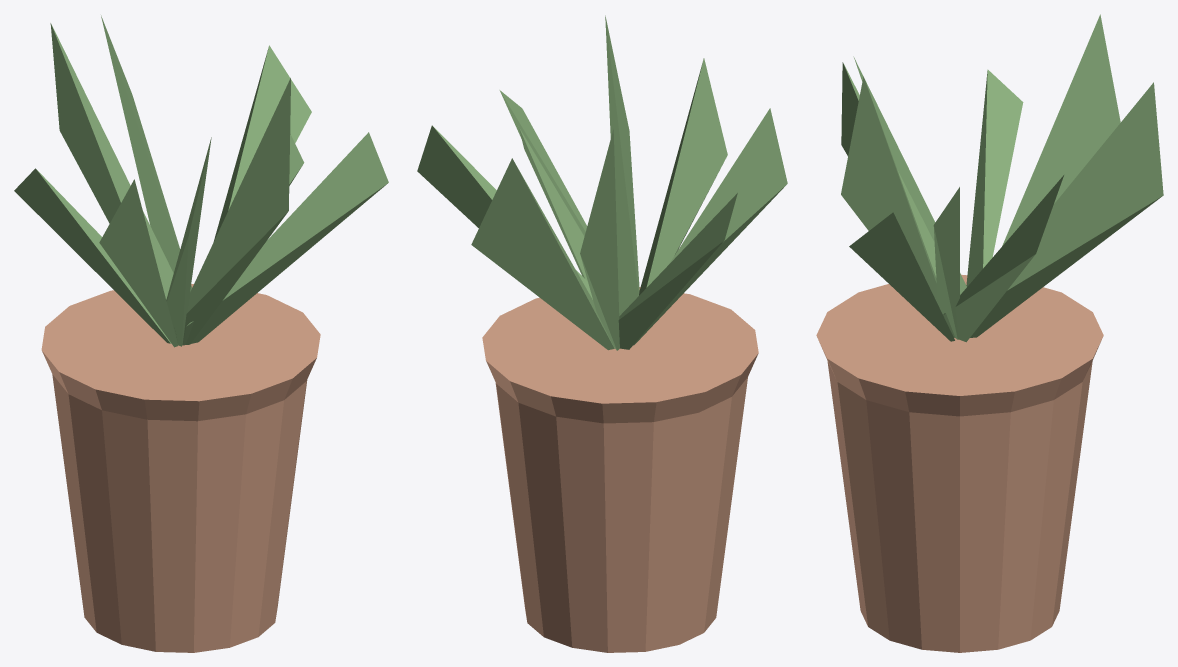
File: plant_pot.glb
3 renders of one model, left to right at view 1: azimuth 30°, elevation 25°; view 2: azimuth 150°, elevation 25°; view 3: azimuth 270°, elevation 25°, orthographic. The views are drawn at different scales.
Visible parts, largest first — view 1: plant_pot_clay, plant_pot_plant; view 2: plant_pot_clay, plant_pot_plant; view 3: plant_pot_clay, plant_pot_plant.
Part boxes in pixels (left/top/right/bottom): plant_pot_clay: left=41, top=284, right=320, bottom=652; plant_pot_plant: left=14, top=15, right=388, bottom=347; plant_pot_clay: left=482, top=287, right=758, bottom=652; plant_pot_plant: left=417, top=15, right=787, bottom=350; plant_pot_clay: left=816, top=274, right=1103, bottom=652; plant_pot_plant: left=841, top=14, right=1163, bottom=342.
Size of the model in its own units: 0.6488 by 1.13 by 0.6282.
